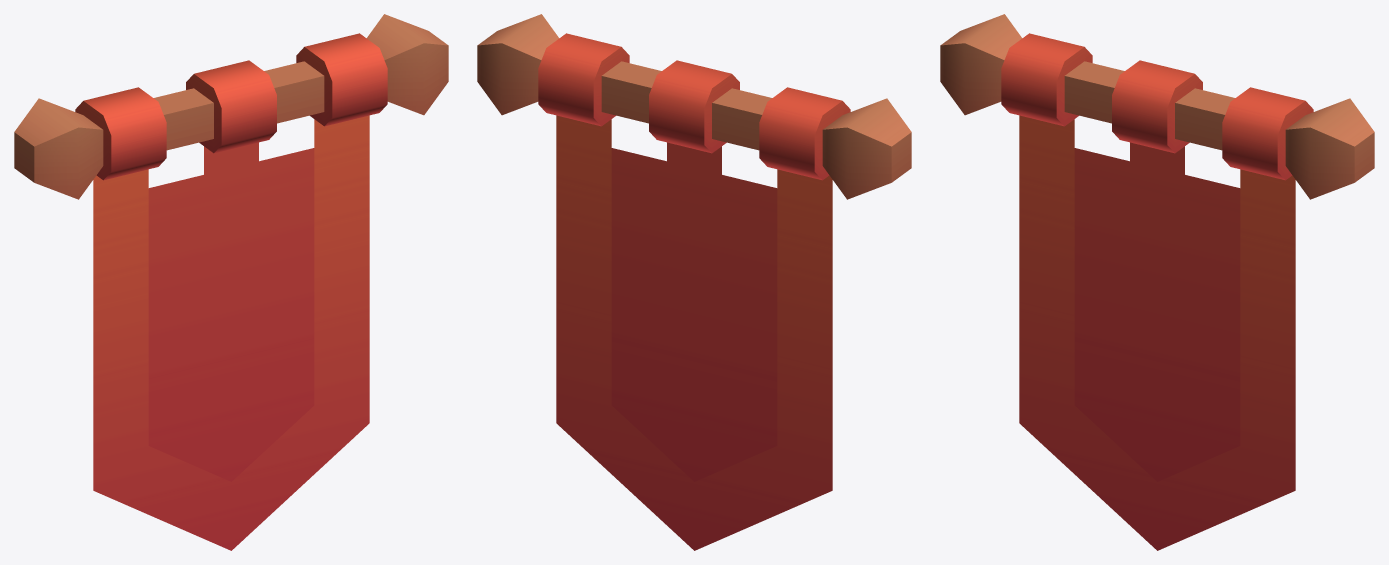
3 views of the same model, side by side, from view 1: azimuth 30°, elevation 25°; view 2: azimuth 150°, elevation 25°; view 3: azimuth 330°, elevation 25° (orthographic).
Parts seen in each view (by area): view 1: banner; view 2: banner; view 3: banner.
Part boxes in pixels (<box>): banner: <box>14,14,448,550</box>; banner: <box>477,14,911,550</box>; banner: <box>940,14,1374,550</box>.
Size of the model in its own units: 0.6 by 0.6644 by 0.1.
1 material, 1 textured.
